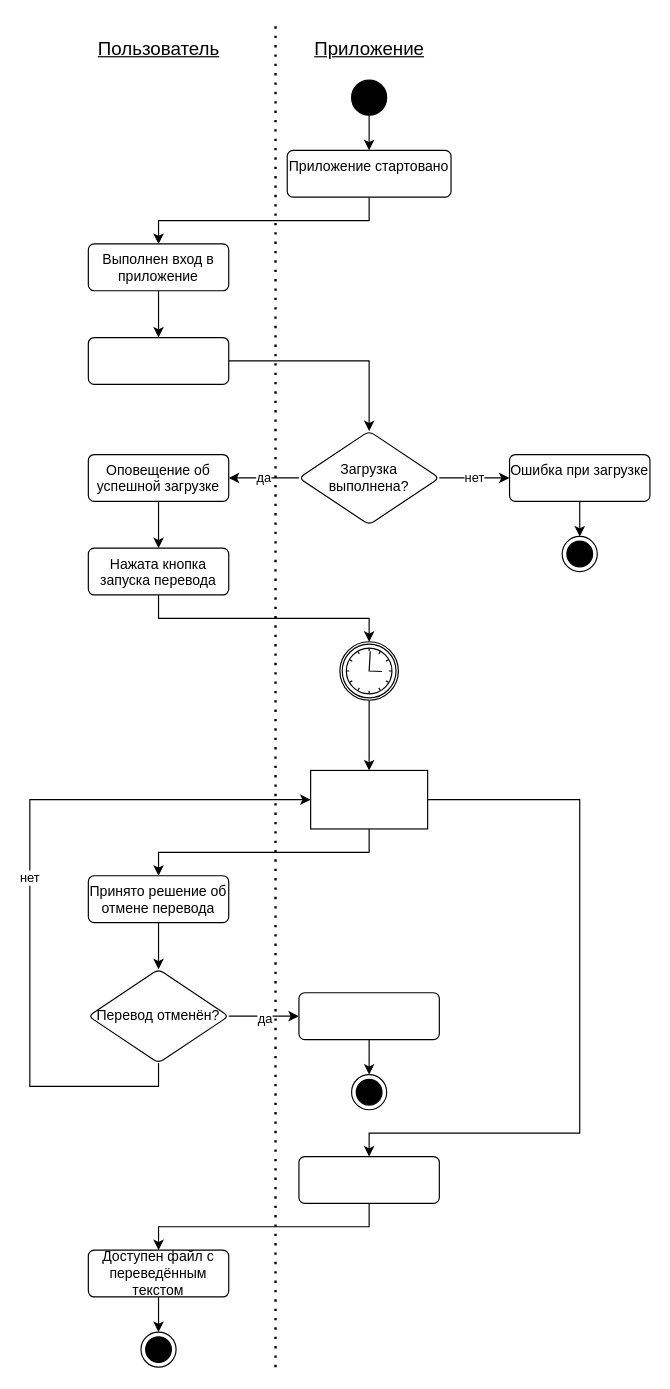
Image size: 670x1389. Some labels were removed from this diagram. Each missing label, with the centre of its shape:
"Выполняется перевод" belongs at point (368, 799).
"Загрузка документа" belongs at point (158, 360).
"Перевод завершён" belongs at point (368, 1179).
"Перевод прекращён" belongs at point (368, 1016).
"Показано расчётное время завершения перевода" belongs at point (368, 670).
